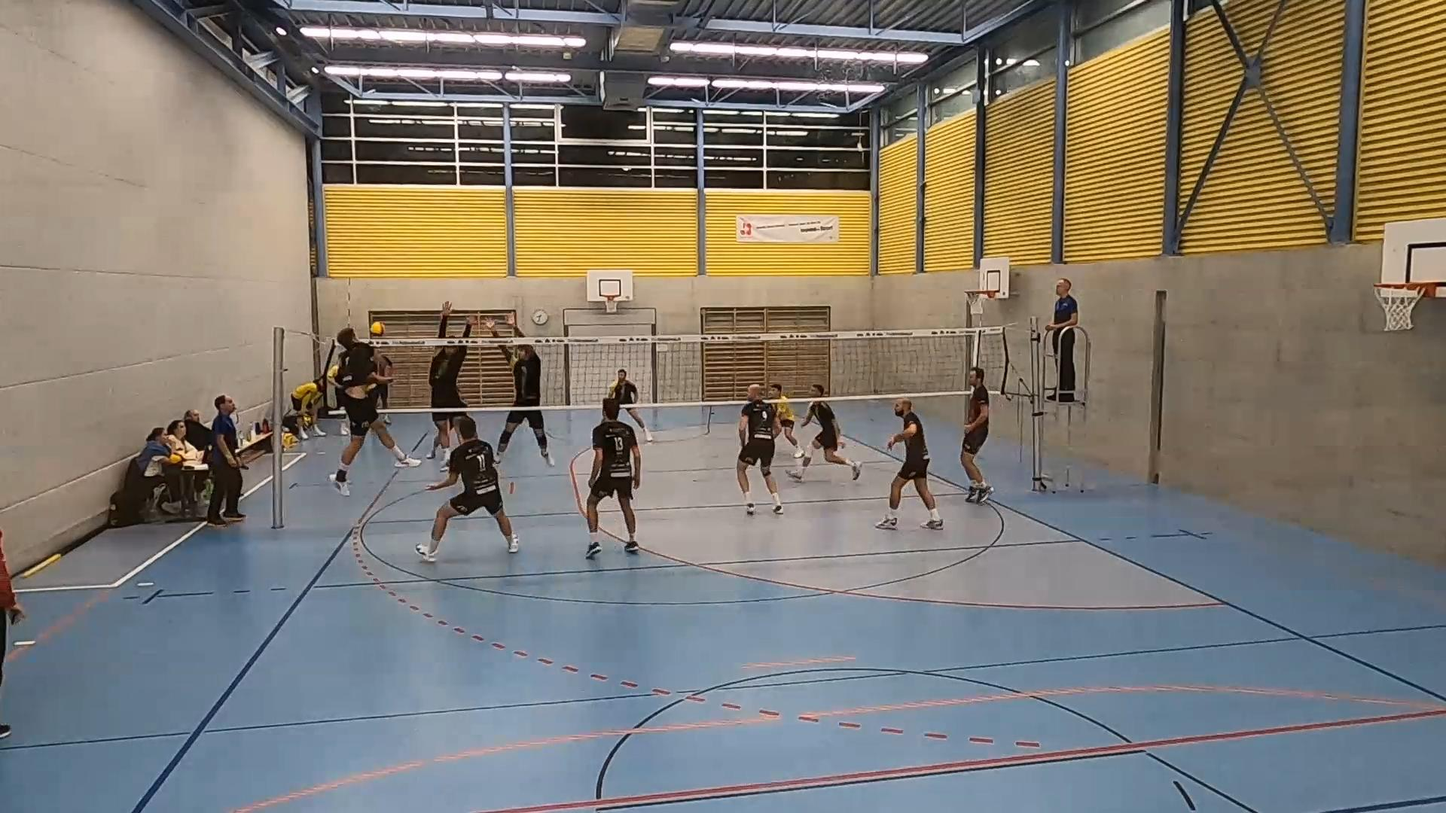attacco: (325, 323, 421, 502)
muro: (487, 301, 557, 468), (415, 295, 479, 472)
